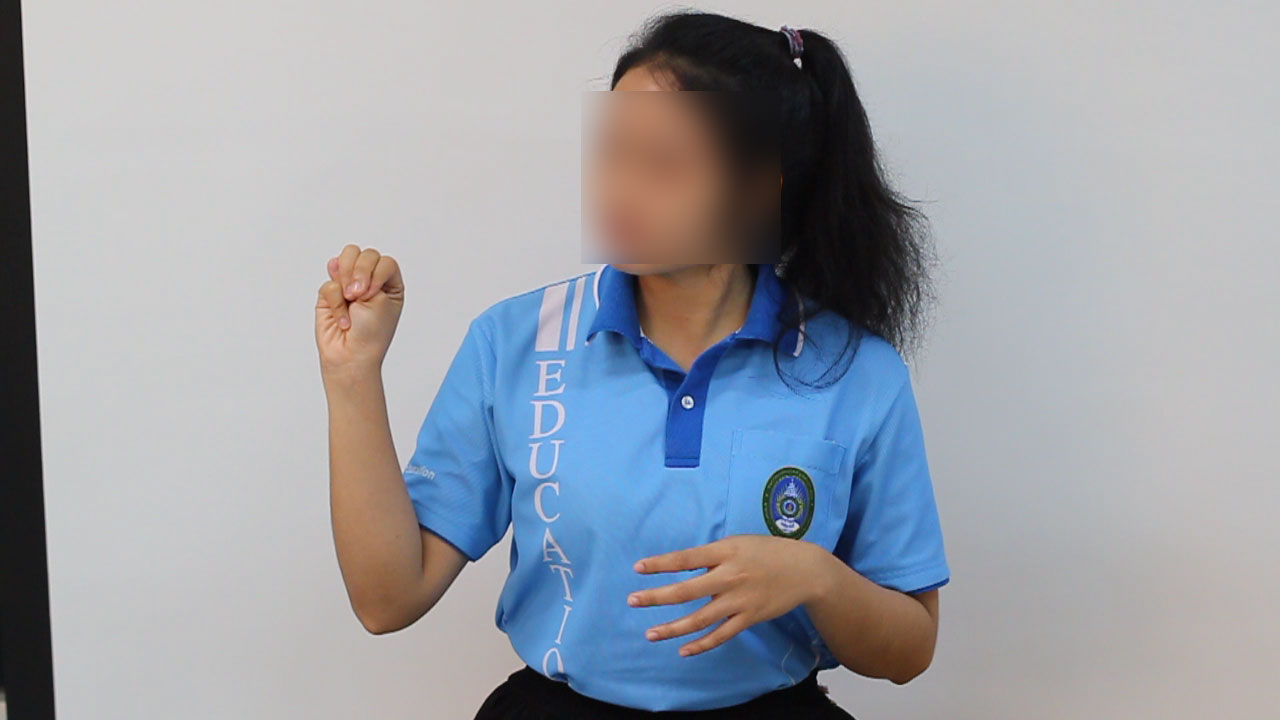mor: (302, 225, 418, 402)
